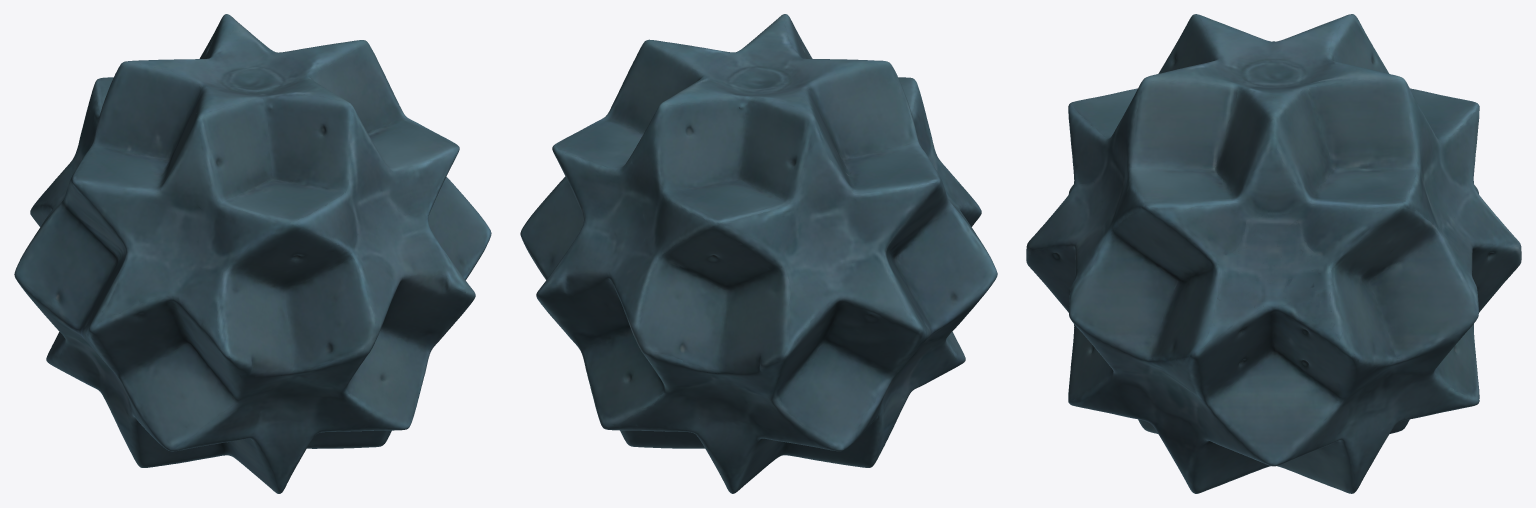
File: 02_icosahedral_symtrellis.glb
The picture shows the model from 3 angles, left to right: view 1: azimuth 30°, elevation 25°; view 2: azimuth 150°, elevation 25°; view 3: azimuth 270°, elevation 25°; orthographic projection. The views are drawn at different scales.
Parts seen in each view (by area): view 1: world; view 2: world; view 3: world.
Part boxes in pixels (x1,y1,x2,y2): world: (14,14,491,493); world: (520,14,997,493); world: (1026,14,1521,493).
Bounding box in the file's own units: 0.9107 × 0.8135 × 0.9363.
1 material, 1 textured.
